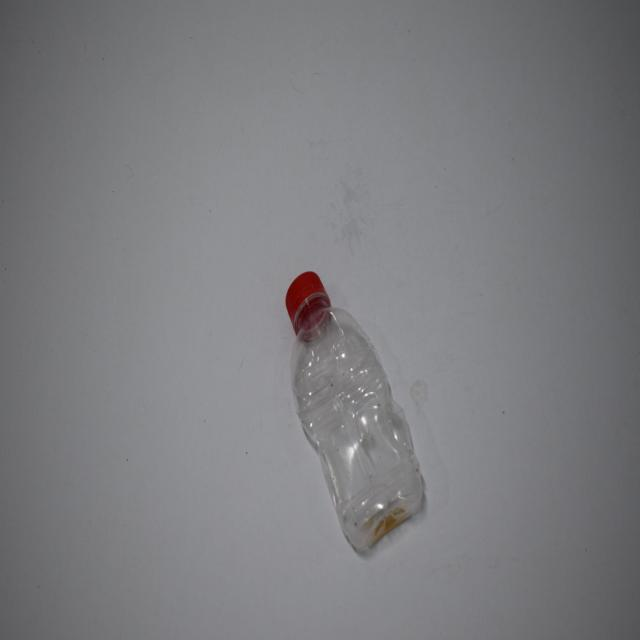empty: (286, 272, 423, 551)
